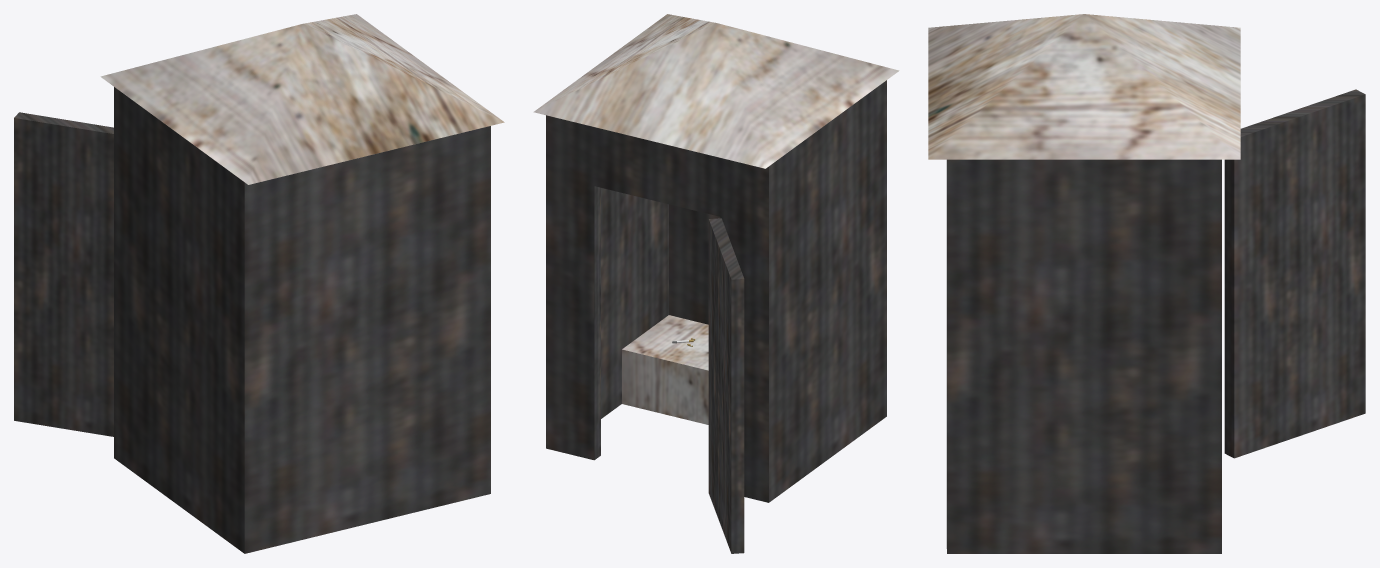
Rendered from Outdoor toilet.fbx.
The picture shows the model from 3 angles, left to right: view 1: azimuth 30°, elevation 25°; view 2: azimuth 150°, elevation 25°; view 3: azimuth 270°, elevation 25°; orthographic projection. The views are drawn at different scales.
Parts seen in each view (by area): view 1: pCube2, pCube3, pCube6, pCube5, pCube4; view 2: pCube3, pCube6, pCube1, pCube4, pCube5, pCube7, pCube2; view 3: pCube4, pCube5, pCube6.
Part boxes in pixels (left/top/right/bottom): pCube2: left=254, top=128, right=480, bottom=551; pCube3: left=114, top=87, right=254, bottom=553; pCube6: left=100, top=14, right=504, bottom=184; pCube5: left=14, top=112, right=113, bottom=436; pCube4: left=481, top=126, right=490, bottom=496; pCube3: left=759, top=80, right=886, bottom=502; pCube6: left=533, top=14, right=899, bottom=168; pCube1: left=555, top=117, right=759, bottom=500; pCube4: left=546, top=115, right=668, bottom=450; pCube5: left=708, top=218, right=744, bottom=553; pCube7: left=622, top=315, right=708, bottom=424; pCube2: left=669, top=204, right=720, bottom=324; pCube4: left=947, top=159, right=1221, bottom=553; pCube5: left=1224, top=89, right=1365, bottom=458; pCube6: left=928, top=14, right=1240, bottom=159.
Size of the model in its own units: 13.11 by 19.68 by 16.36.
